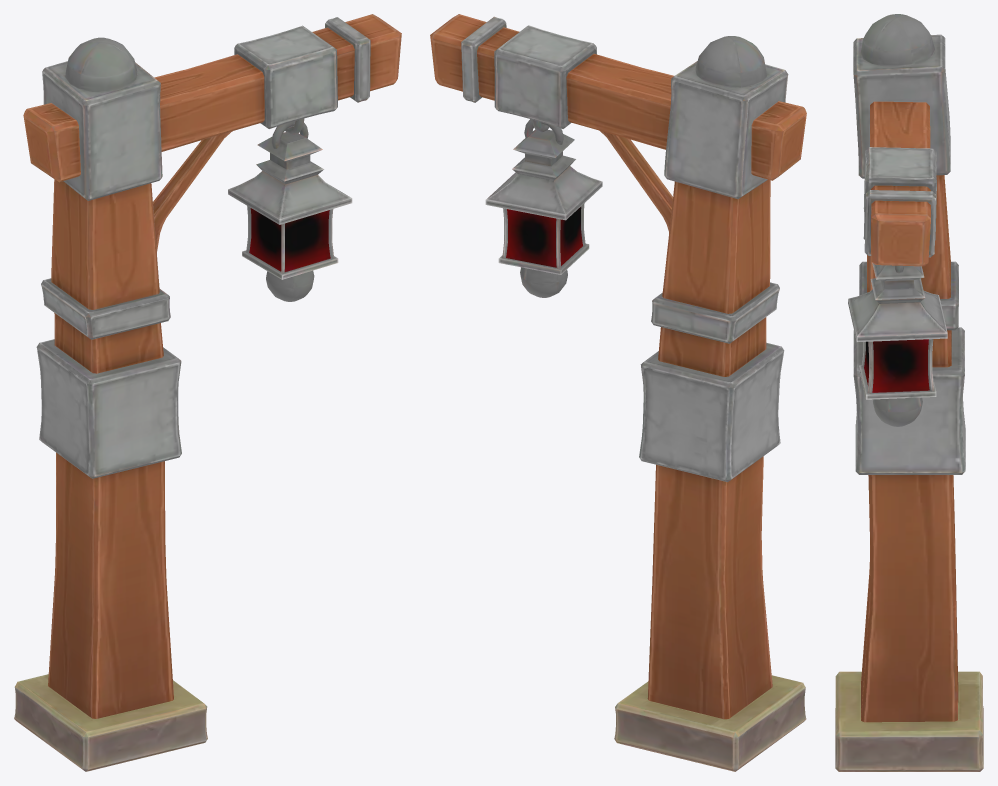
File: street_lamp.glb
3 views of the same model, side by side, from view 1: azimuth 30°, elevation 25°; view 2: azimuth 150°, elevation 25°; view 3: azimuth 270°, elevation 25° (orthographic). The views are drawn at different scales.
Visible parts, largest first — view 1: Metal_low, BaseColumn_low, HorizontalBoard_low, Lamp_low, Support_low; view 2: Metal_low, BaseColumn_low, HorizontalBoard_low, Lamp_low, Support_low; view 3: Metal_low, BaseColumn_low, Lamp_low, HorizontalBoard_low.
Boxes of the visible parts, x1,y1,x2,y2 form: Metal_low: (14, 17, 370, 771); BaseColumn_low: (48, 179, 173, 718); HorizontalBoard_low: (23, 14, 401, 182); Lamp_low: (228, 132, 352, 301); Support_low: (153, 131, 232, 252); Metal_low: (461, 16, 806, 771); BaseColumn_low: (647, 179, 772, 719); HorizontalBoard_low: (430, 14, 806, 180); Lamp_low: (485, 129, 602, 297); Support_low: (600, 131, 672, 232); Metal_low: (835, 14, 983, 771); BaseColumn_low: (861, 175, 958, 722); Lamp_low: (848, 262, 947, 426); HorizontalBoard_low: (870, 101, 930, 266).
Size of the model in its own units: 2.81 by 5.26 by 0.9864.
Materials: 1 (1 with a texture image).
